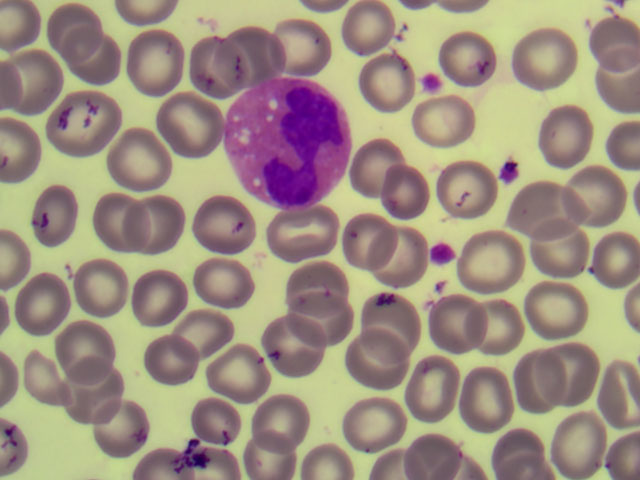Platelets: (417, 71, 447, 101), (430, 241, 456, 268)
RBC: (60, 28, 119, 84), (13, 49, 72, 105), (60, 90, 119, 146), (106, 135, 165, 191), (149, 96, 208, 152), (171, 42, 230, 98), (221, 24, 280, 80), (276, 16, 335, 72), (124, 33, 183, 89), (138, 191, 197, 247), (91, 193, 150, 249), (27, 182, 86, 238), (76, 255, 135, 311), (15, 276, 74, 332), (55, 316, 114, 372), (63, 361, 122, 417), (91, 407, 150, 463), (15, 346, 74, 402), (134, 337, 193, 393), (173, 304, 232, 360), (195, 253, 254, 309), (120, 270, 179, 326), (195, 195, 254, 251), (278, 203, 337, 259), (287, 253, 346, 309), (299, 290, 358, 346), (258, 314, 317, 370), (202, 349, 261, 405), (194, 391, 253, 447), (187, 424, 246, 480), (228, 424, 287, 480), (253, 389, 312, 445), (339, 395, 398, 451), (309, 424, 368, 480), (348, 335, 407, 391), (359, 297, 418, 353), (365, 228, 424, 284), (342, 213, 401, 269), (383, 160, 442, 216), (350, 135, 409, 191), (418, 91, 477, 147), (359, 55, 418, 111), (437, 24, 496, 80), (516, 23, 575, 79), (537, 107, 596, 163), (563, 159, 622, 215), (512, 186, 571, 242), (527, 285, 586, 341), (536, 230, 595, 286), (461, 232, 520, 288), (475, 298, 534, 354), (428, 290, 487, 346), (402, 358, 461, 414), (451, 375, 510, 431), (492, 424, 551, 480), (395, 424, 454, 480), (554, 411, 613, 467), (510, 355, 569, 411), (545, 335, 604, 391), (581, 369, 640, 425), (581, 231, 640, 287), (581, 56, 640, 112), (581, 7, 640, 63), (44, 1, 103, 56), (348, 1, 407, 56)
WBC: (223, 85, 354, 202)
